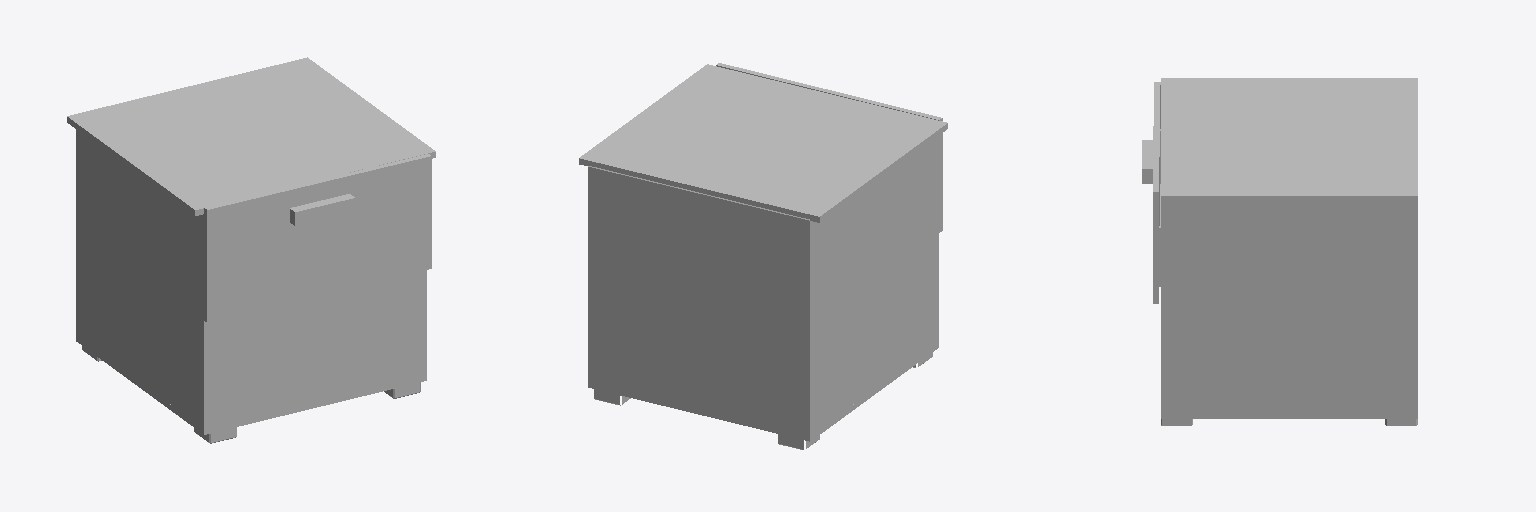
File: MesaNoche.obj
The picture shows the model from 3 angles: view 1: azimuth 30°, elevation 25°; view 2: azimuth 150°, elevation 25°; view 3: azimuth 270°, elevation 25°; orthographic projection.
Parts seen in each view (by area): view 1: pasted__pasted__polySurface64 pasted__group9 group10, polySurface115; view 2: pasted__pasted__polySurface64 pasted__group9 group10, polySurface115; view 3: pasted__pasted__polySurface64 pasted__group9 group10, polySurface115.
Part boxes in pixels (x1,y1,x2,y2): pasted__pasted__polySurface64 pasted__group9 group10: (67,57,435,443); polySurface115: (204,154,431,322); pasted__pasted__polySurface64 pasted__group9 group10: (579,64,947,449); polySurface115: (716,63,942,232); pasted__pasted__polySurface64 pasted__group9 group10: (1161,78,1417,425); polySurface115: (1142,82,1160,303).
Bounding box in the file's own units: 0.4327 × 0.4093 × 0.4303.